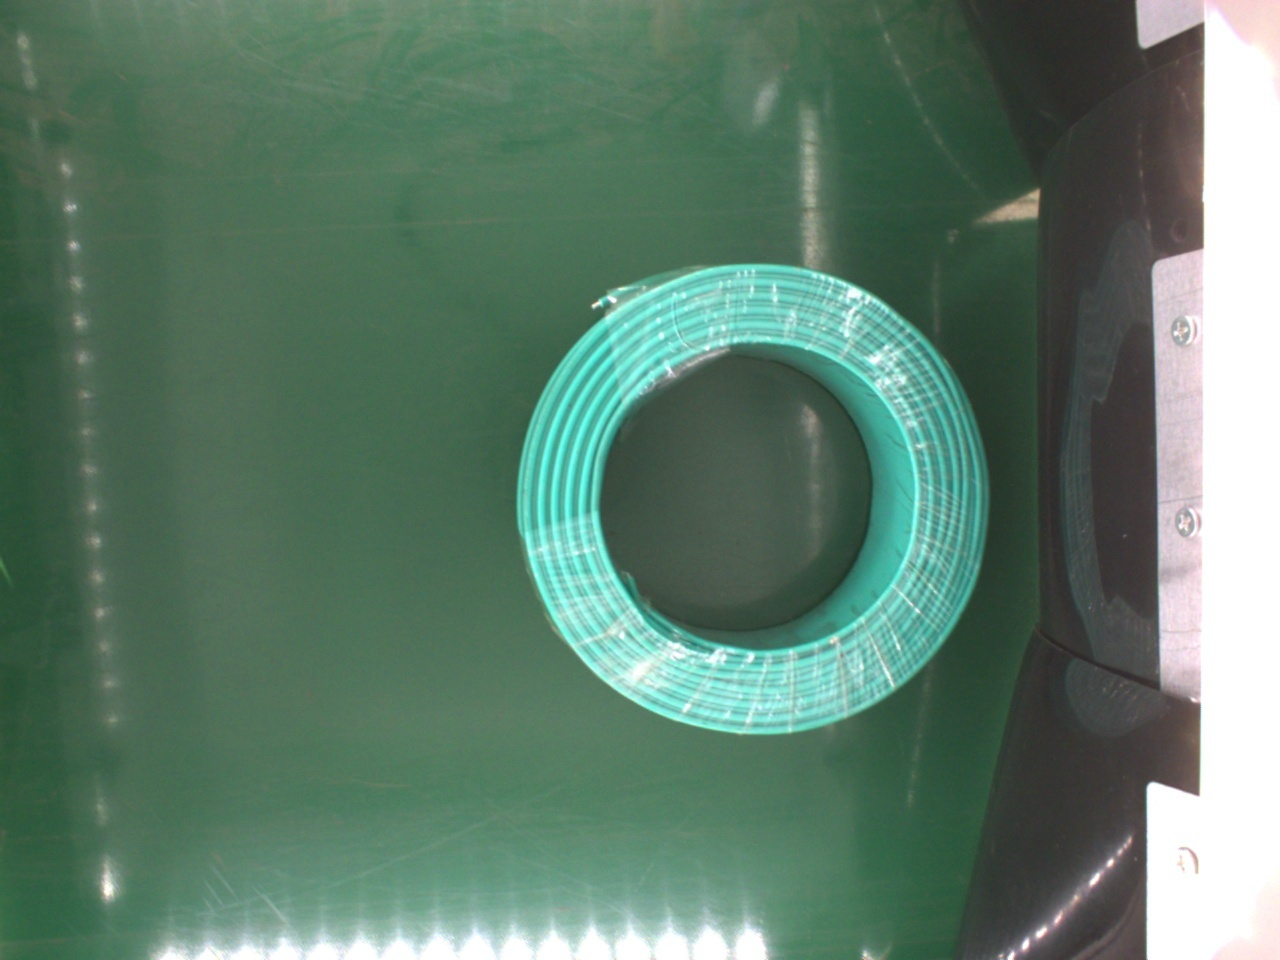green: (516, 263, 984, 735)
